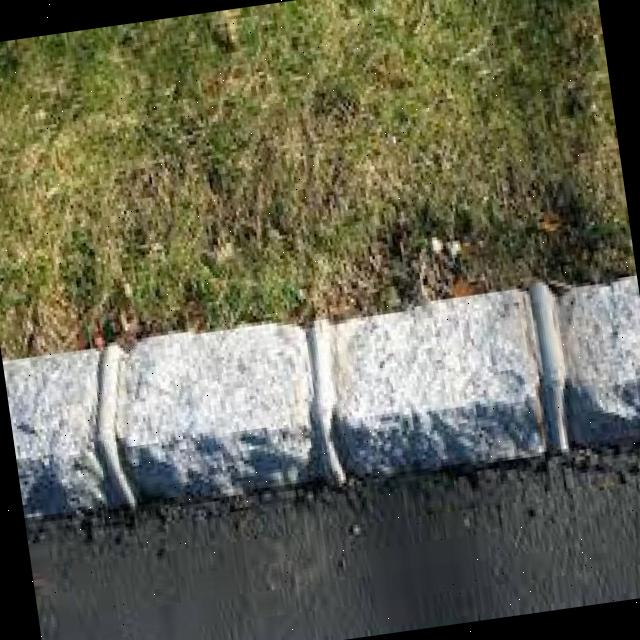curb: (3, 269, 640, 529)
